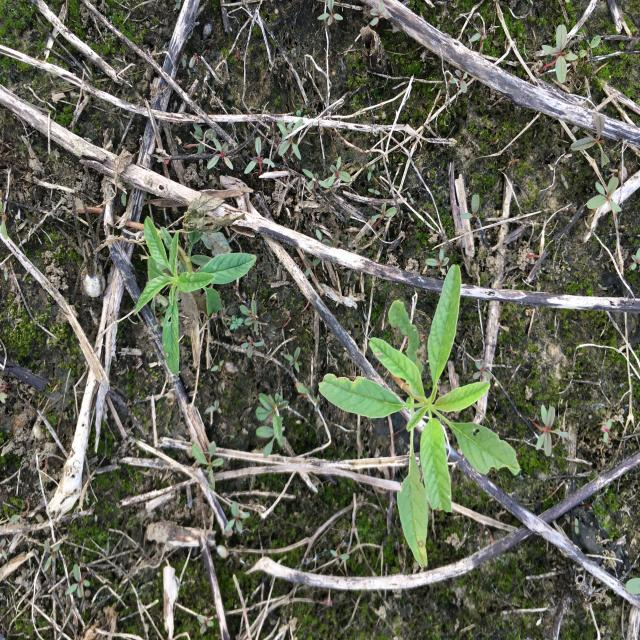Waterhemp: (317, 262, 522, 572), (132, 214, 259, 380)
